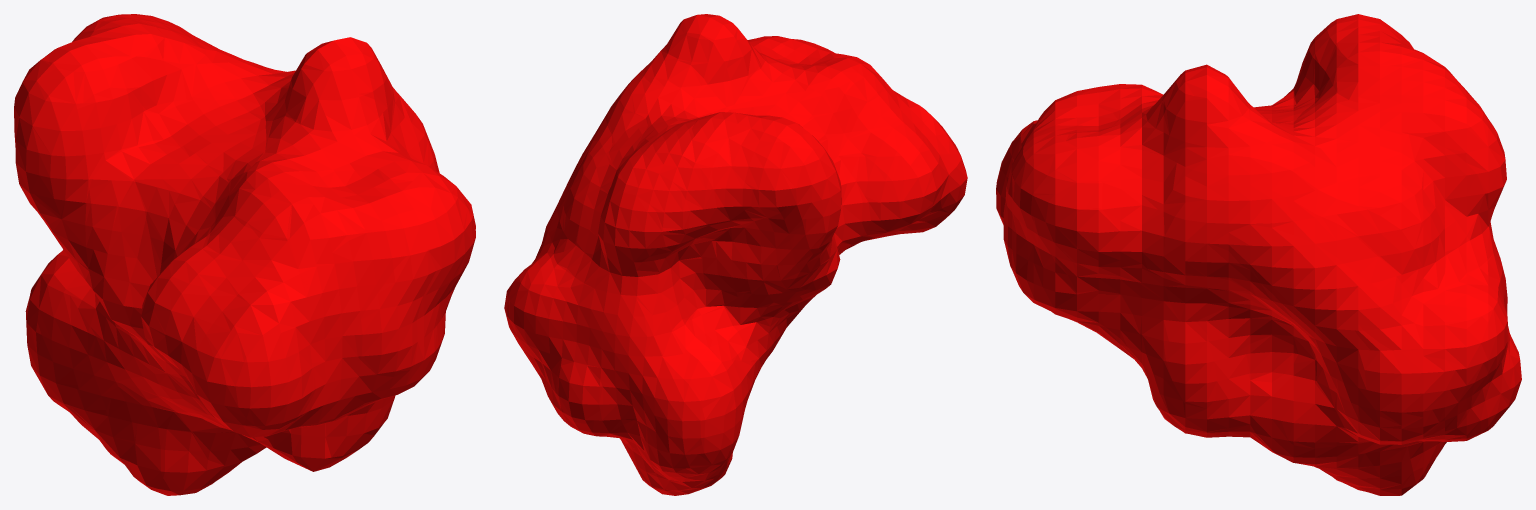
The model's file is rph_coarse.dae.
3 views of the same model, side by side, from view 1: azimuth 30°, elevation 25°; view 2: azimuth 150°, elevation 25°; view 3: azimuth 270°, elevation 25° (orthographic). The views are drawn at different scales.
Parts seen in each view (by area): view 1: rph; view 2: rph; view 3: rph.
Part boxes in pixels (bbox=[...]): rph: bbox=[14, 14, 475, 495]; rph: bbox=[504, 14, 967, 495]; rph: bbox=[996, 14, 1521, 495].
Size of the model in its own units: 39.8 by 52.93 by 56.12.
